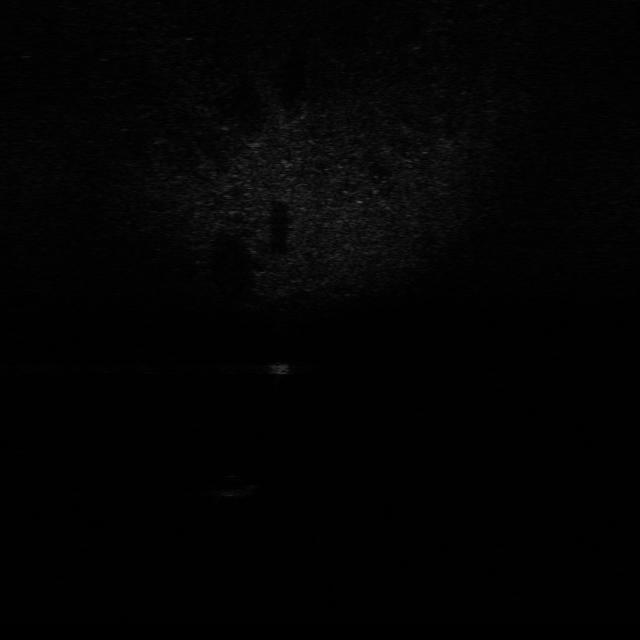ball: (208, 473, 261, 498)
cube: (263, 358, 289, 376)
